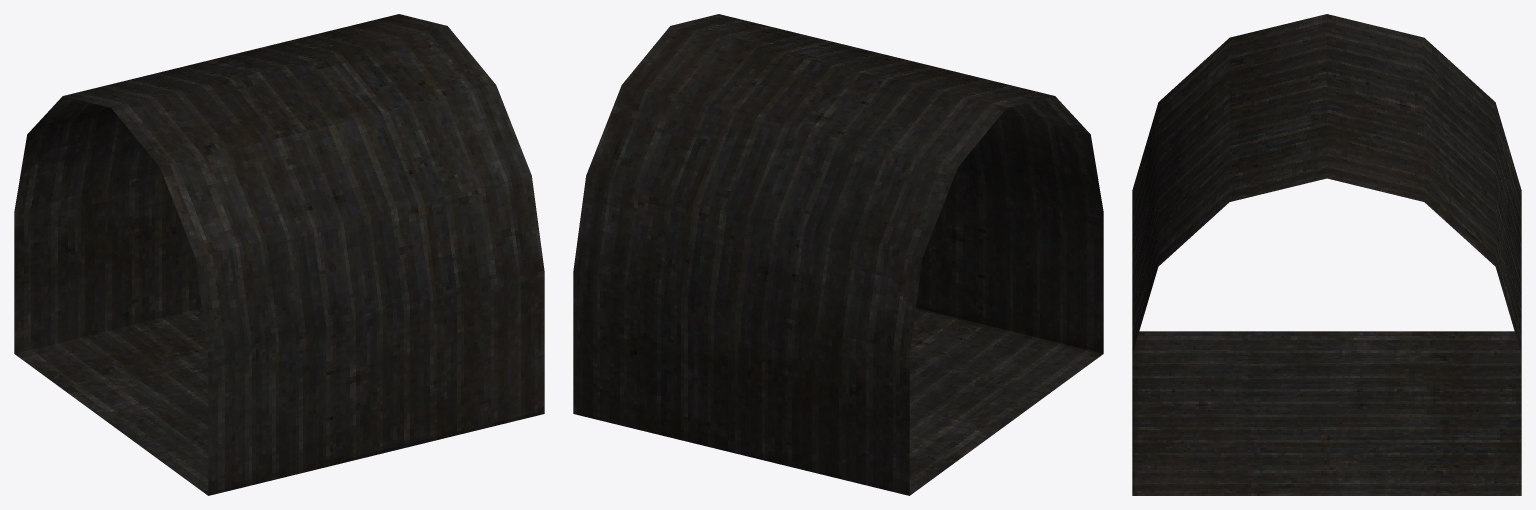
The model's file is tunnel_1.glb.
The picture shows the model from 3 angles, left to right: view 1: azimuth 30°, elevation 25°; view 2: azimuth 150°, elevation 25°; view 3: azimuth 270°, elevation 25°; orthographic projection.
Parts seen in each view (by area): view 1: tunnel_1; view 2: tunnel_1; view 3: tunnel_1.
Boxes of the visible parts, x1,y1,x2,y2 form: tunnel_1: (14, 14, 544, 495); tunnel_1: (573, 14, 1103, 495); tunnel_1: (1132, 14, 1521, 495).
Size of the model in its own units: 2 by 1.8 by 2.
Materials: 1 (1 with a texture image).
